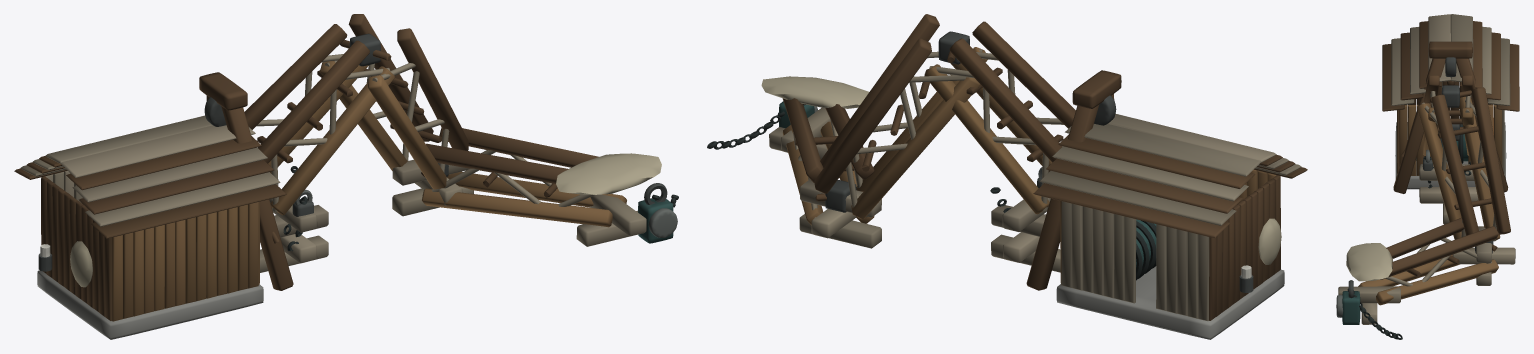
The model's file is boom_crane_wreck_b.glb.
3 renders of one model, left to right at view 1: azimuth 30°, elevation 25°; view 2: azimuth 150°, elevation 25°; view 3: azimuth 270°, elevation 25°, orthographic. The views are drawn at different scales.
Parts seen in each view (by area): view 1: Surface; view 2: Surface; view 3: Surface.
Boxes of the visible parts, bbox=[...] form: Surface: bbox=[14, 14, 678, 339]; Surface: bbox=[707, 14, 1307, 339]; Surface: bbox=[1336, 14, 1519, 339].
Bounding box in the file's own units: 13.73 × 4.76 × 4.96.
